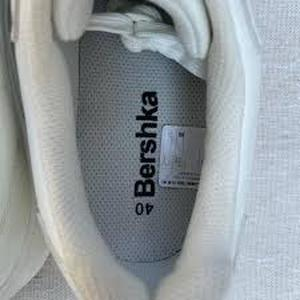bershka: (130, 83, 162, 207)
